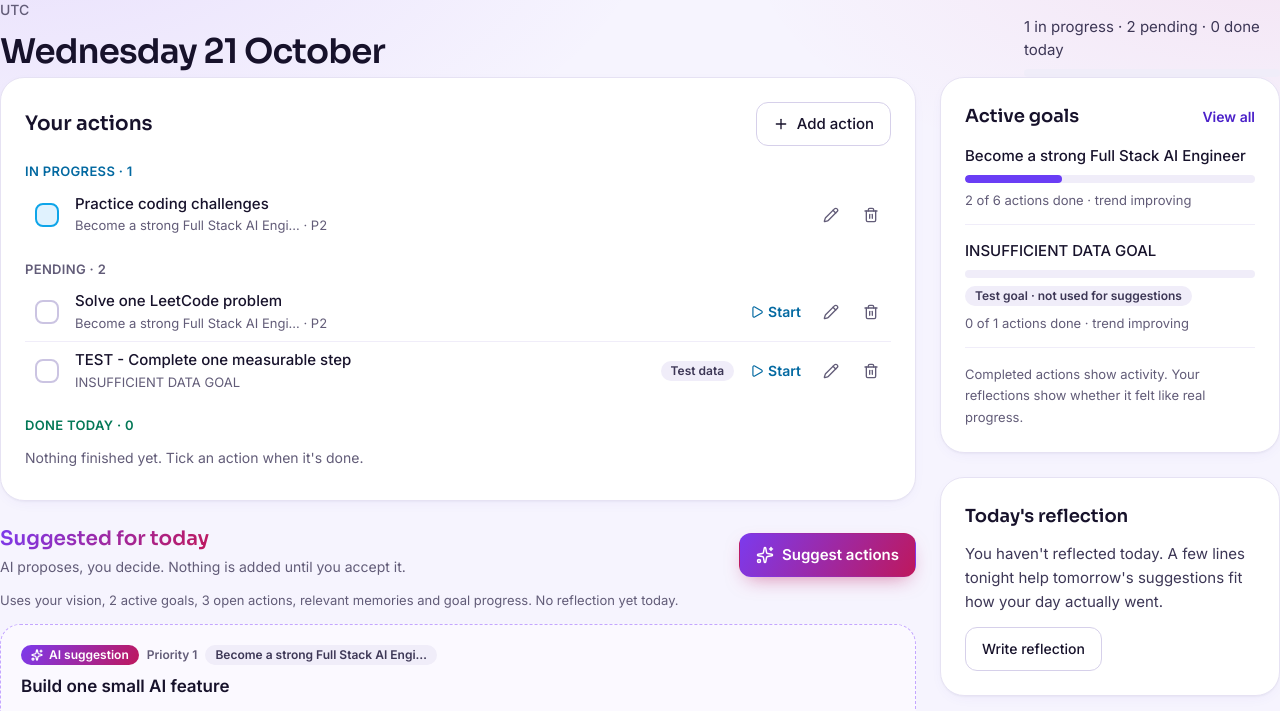
Test: Today › explains a plan rejected for using a test goal
The width and height of the screenshot is (1280, 711).
Step 1. Click the button "Suggest actions" → point(828, 555), box [739, 533, 916, 577]
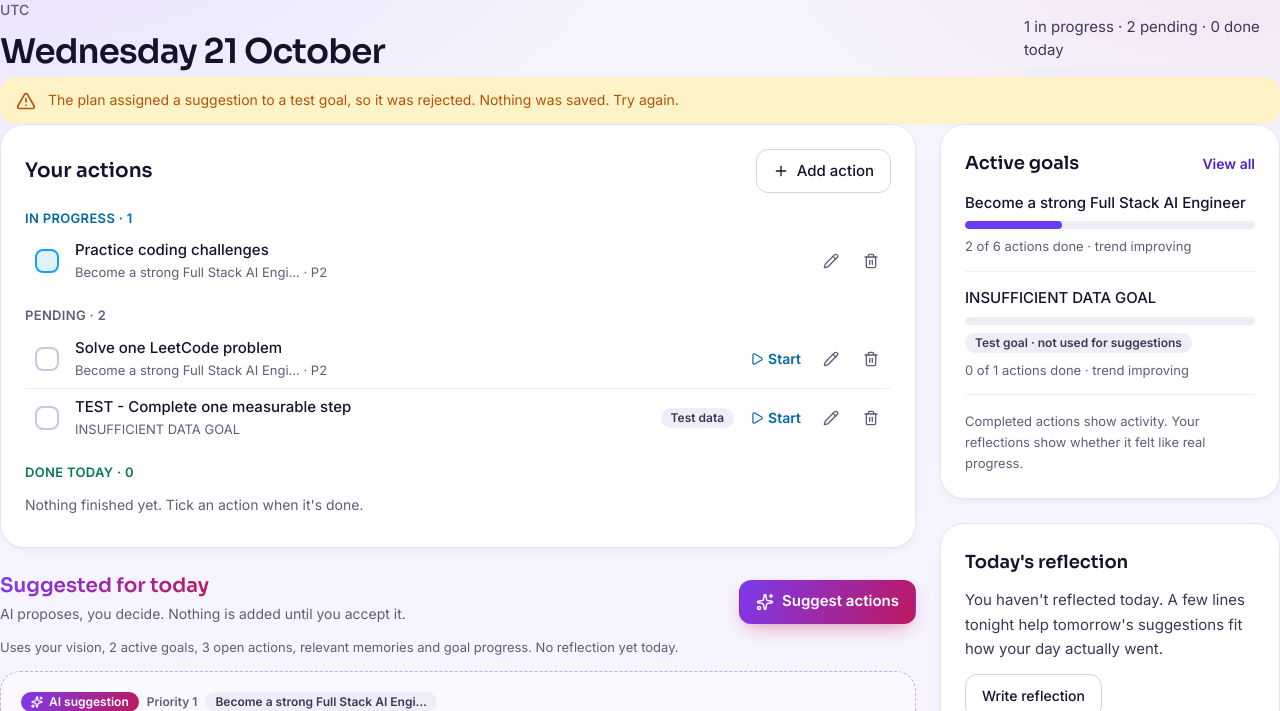
Expected: the message shows "assigned a suggestion to a test goal", [48, 91, 679, 108]
